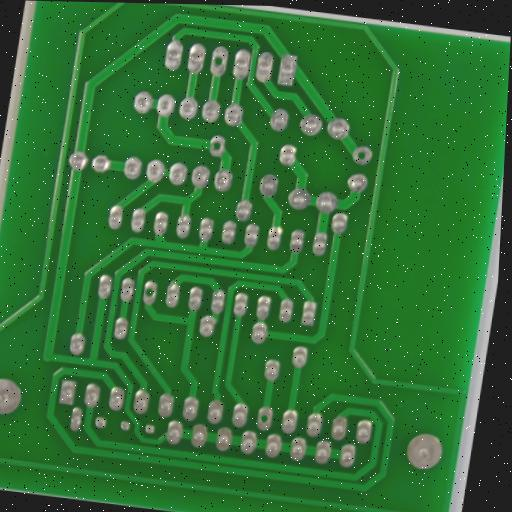missing_hole: (350, 143, 373, 165), (208, 50, 229, 73), (253, 408, 275, 429), (139, 281, 160, 302), (208, 135, 227, 155)
